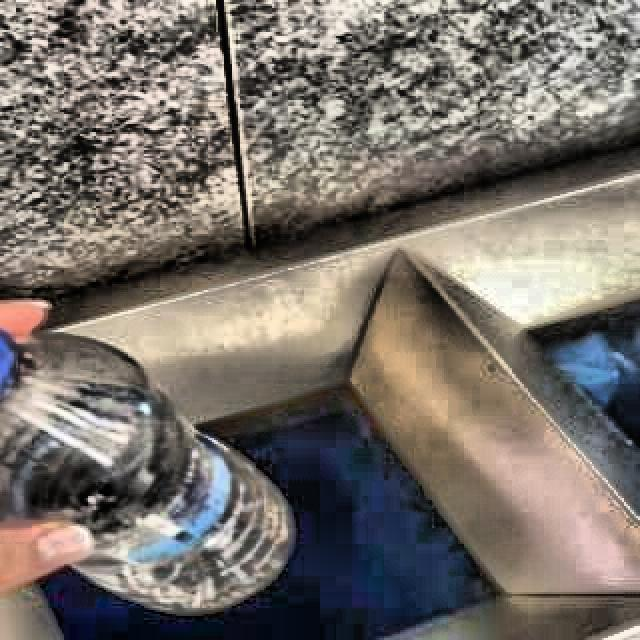plastic: (0, 332, 291, 615)
